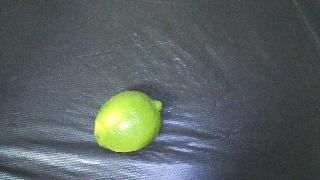LOCAL: (94, 91, 162, 152)
